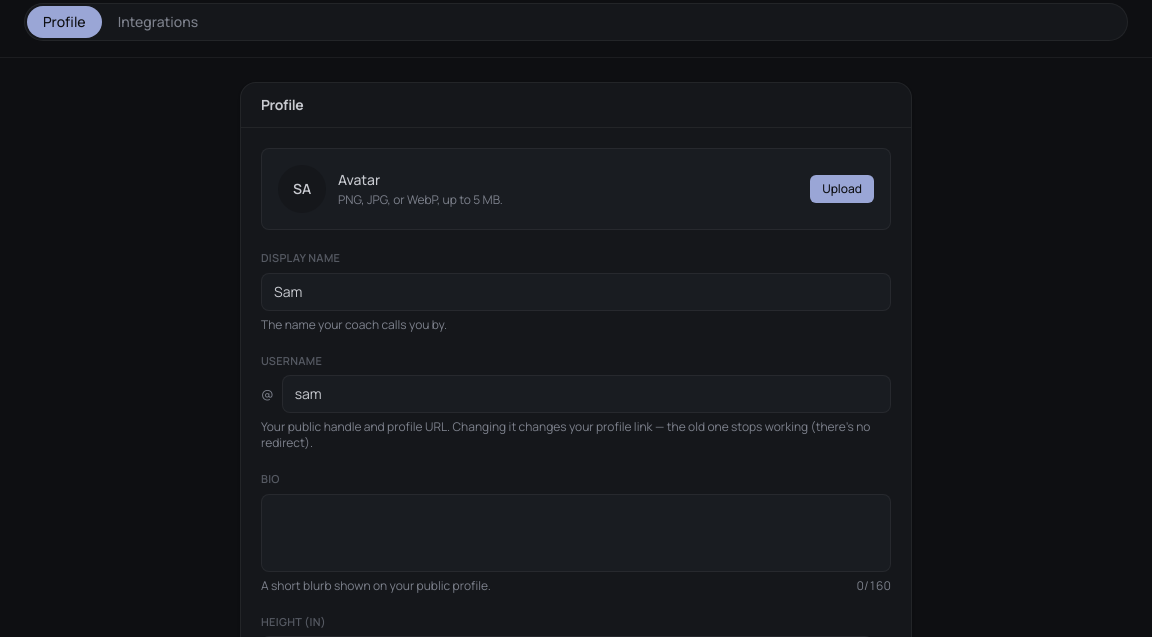
Test: Settings — save bar › shows the bar with a singular count after one edit
Replace the text in the field labelled "Display name" with "Sammy". click: (576, 292)
box: x1=261 y1=272 x2=891 y2=310
(page scrolled)
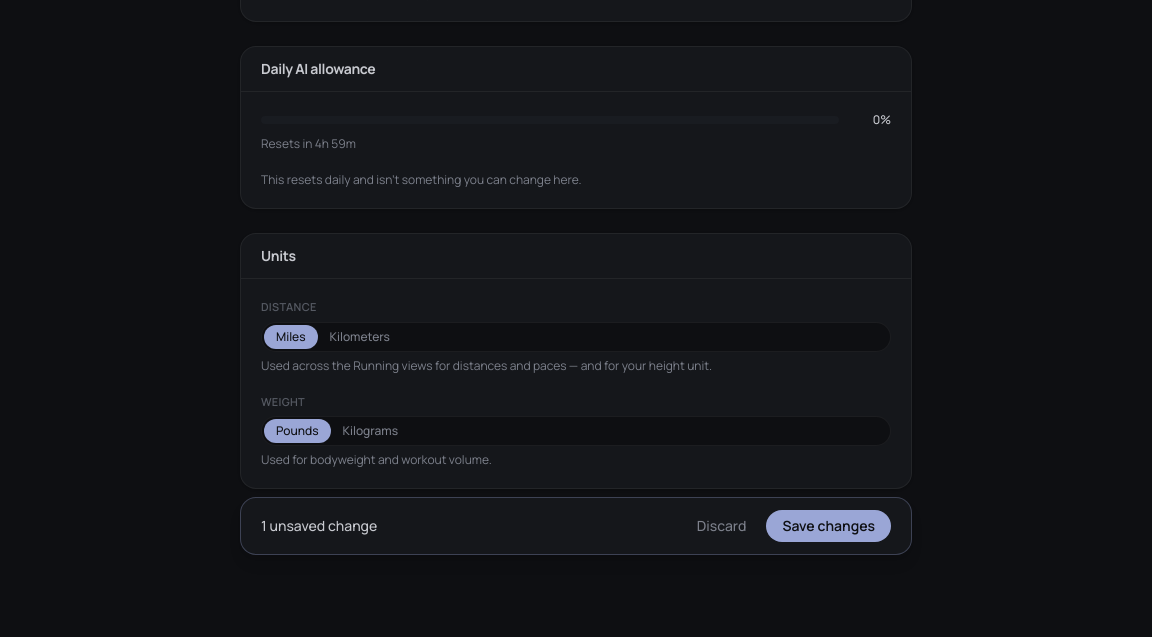
Expected: the text "1 unsaved change" is shown, x1=261 y1=516 x2=377 y2=536
